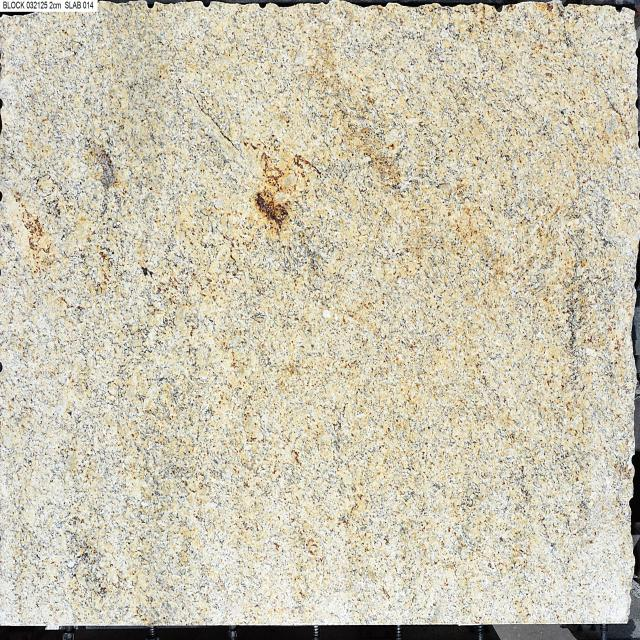chapa: (0, 4, 640, 630)
